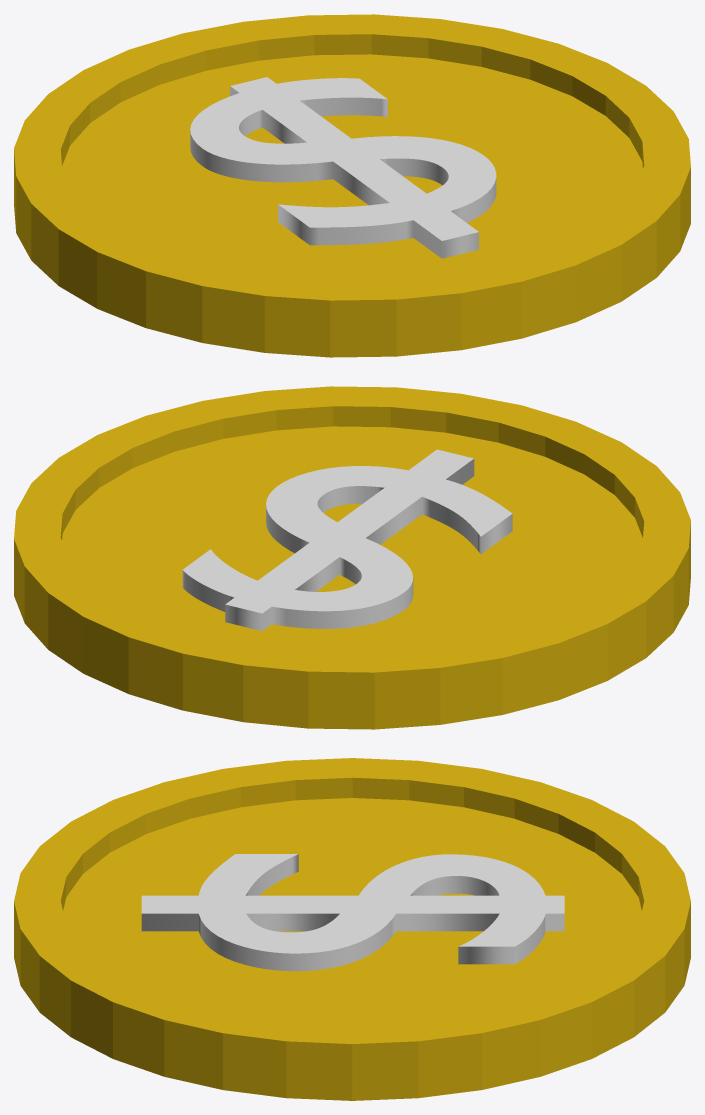
The model's file is MonedaJuego.fbx.
3 renders of one model, top to bottom at view 1: azimuth 30°, elevation 25°; view 2: azimuth 150°, elevation 25°; view 3: azimuth 270°, elevation 25°, orthographic.
Visible parts, largest first — view 1: Moneda; view 2: Moneda; view 3: Moneda.
Part boxes in pixels (box(x1,y1,x2,y2)): Moneda: box(14, 14, 690, 357); Moneda: box(14, 386, 690, 729); Moneda: box(14, 758, 690, 1100).
Bounding box in the file's own units: 200 × 18.53 × 200.
1 material, 1 textured.
